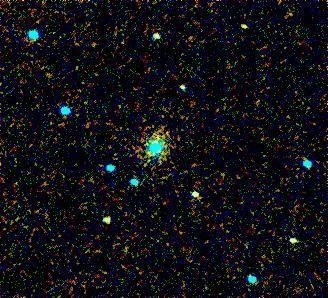star: (231, 12, 261, 42)
